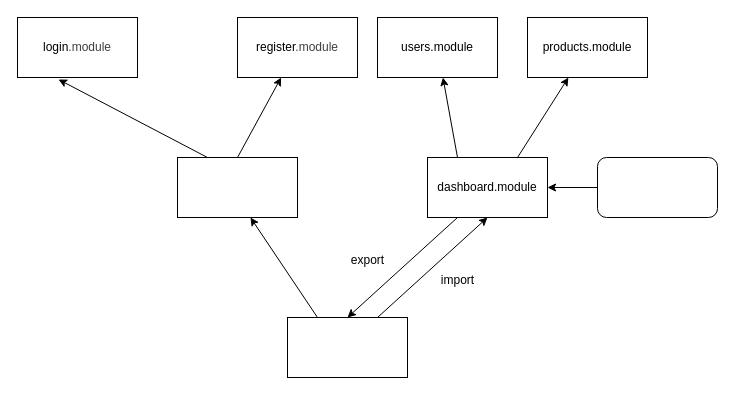
The diagram is 735 pixels wide and 395 high, and some of its shapes have lost their labels. Here are the shapes that lost their labels. From the top down, the centre of each, then its label:
the point at 237,187: auth .module
the point at 657,187: dashboard.component
the point at 347,347: app.module
